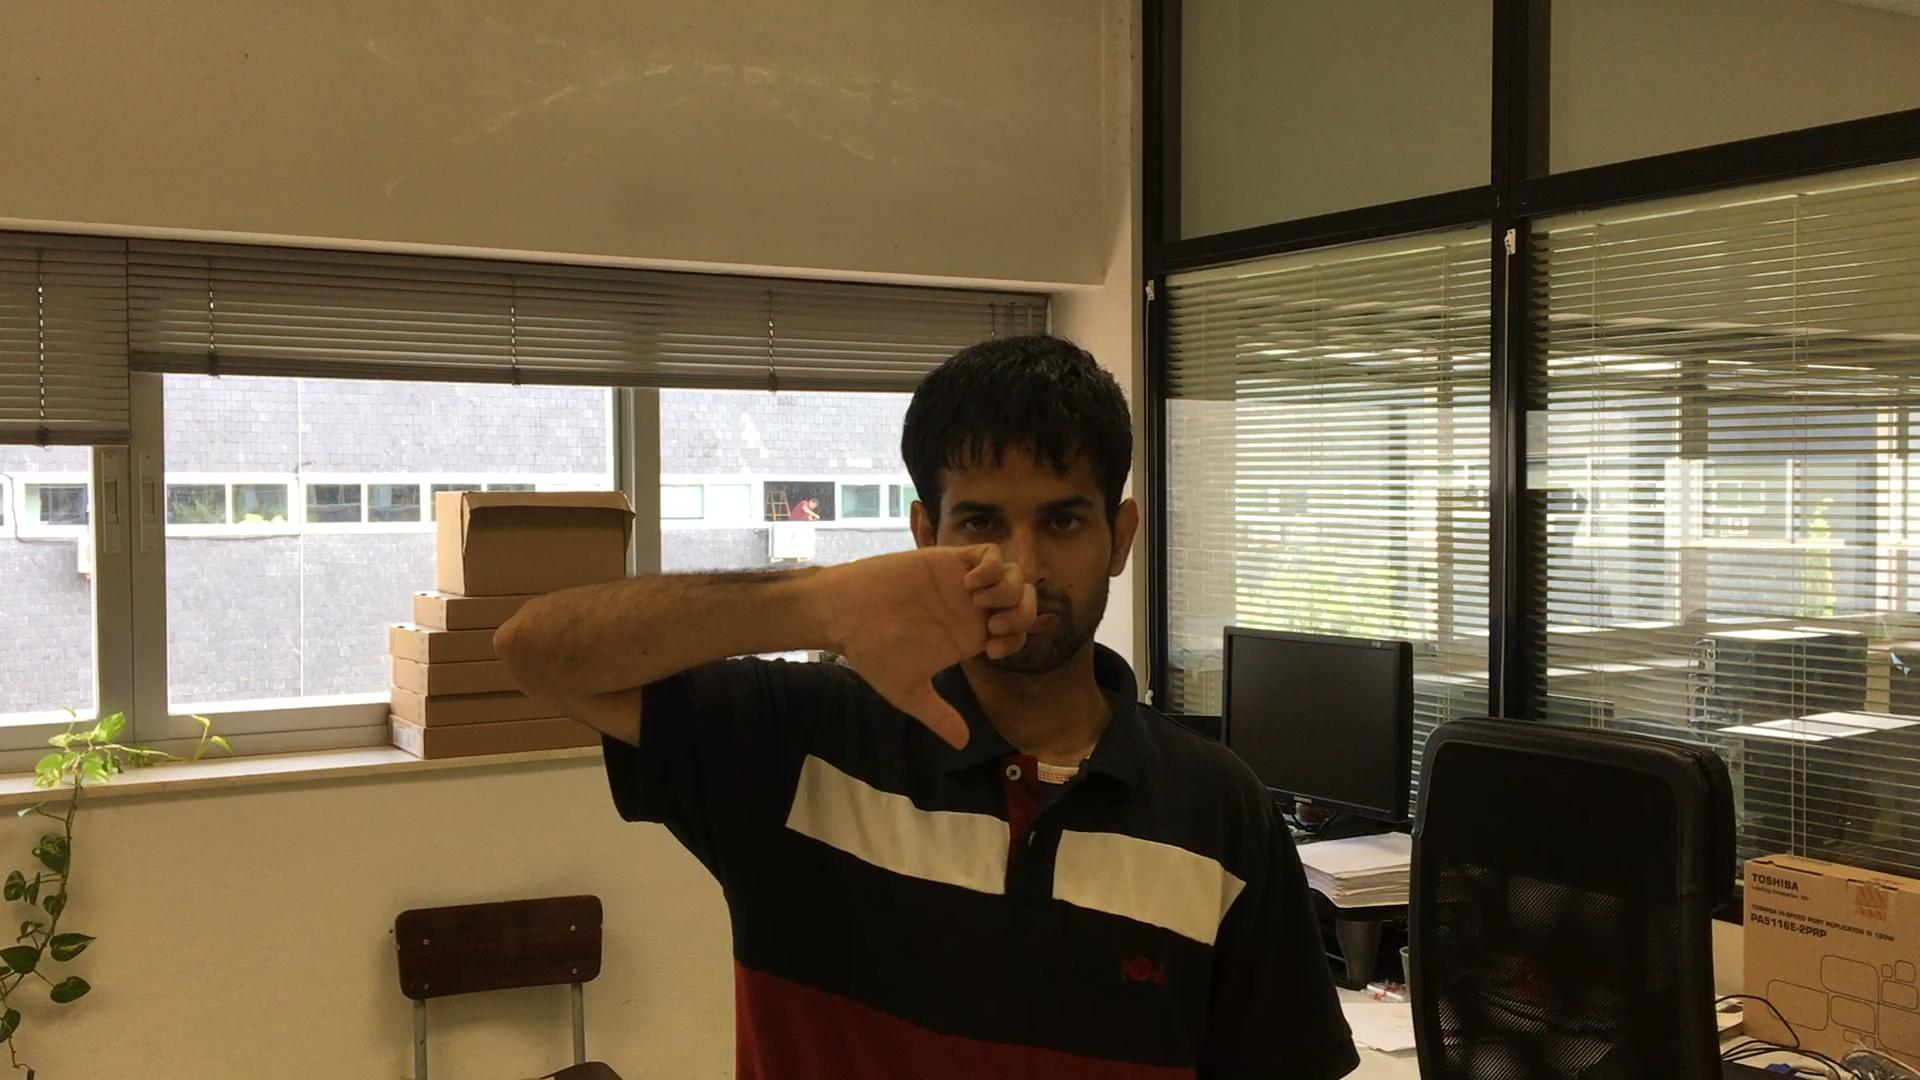down: (783, 513, 1084, 810)
